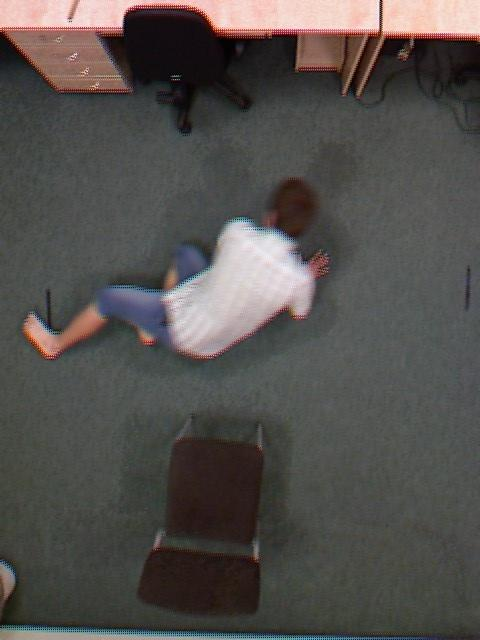fall: (107, 53, 255, 499)
